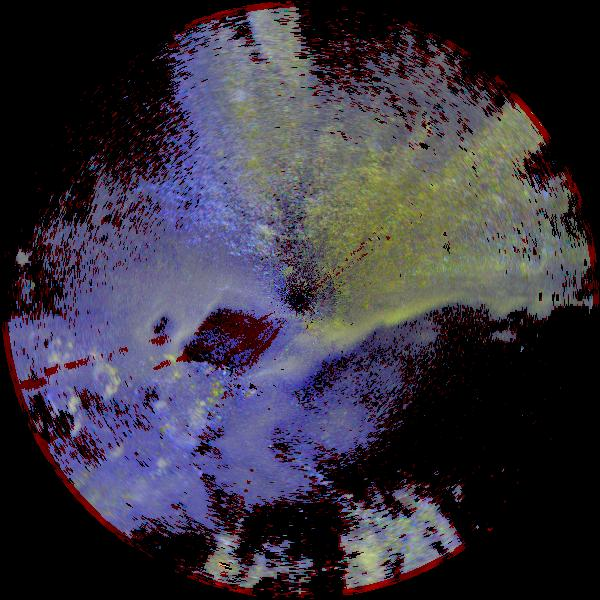roost: (86, 362, 125, 401), (145, 352, 184, 391), (146, 434, 182, 470), (97, 427, 130, 460)
